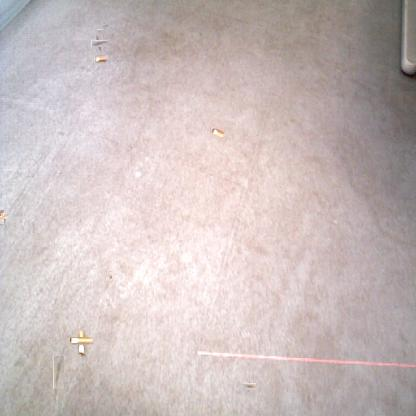dirty: (74, 333, 90, 349), (210, 126, 224, 138), (94, 55, 109, 63), (0, 212, 7, 221)
mark: (53, 355, 64, 389), (94, 37, 105, 50), (244, 381, 255, 392), (106, 271, 112, 281), (102, 23, 108, 30), (97, 29, 102, 34)
